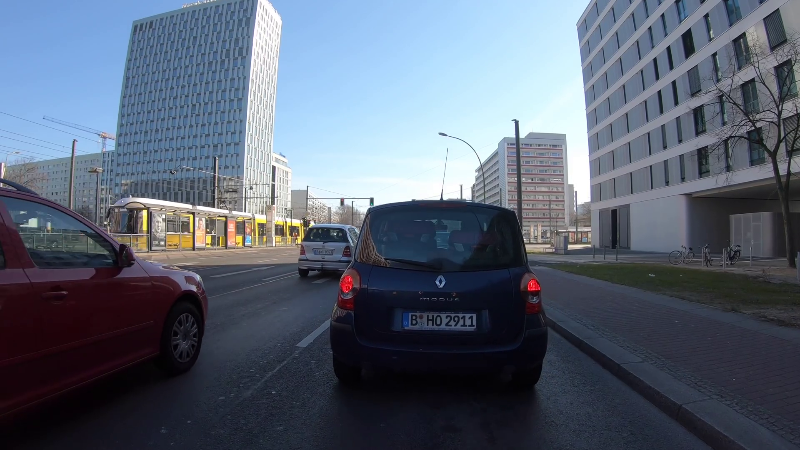Plate: (400, 308, 479, 331), (309, 246, 335, 256)
